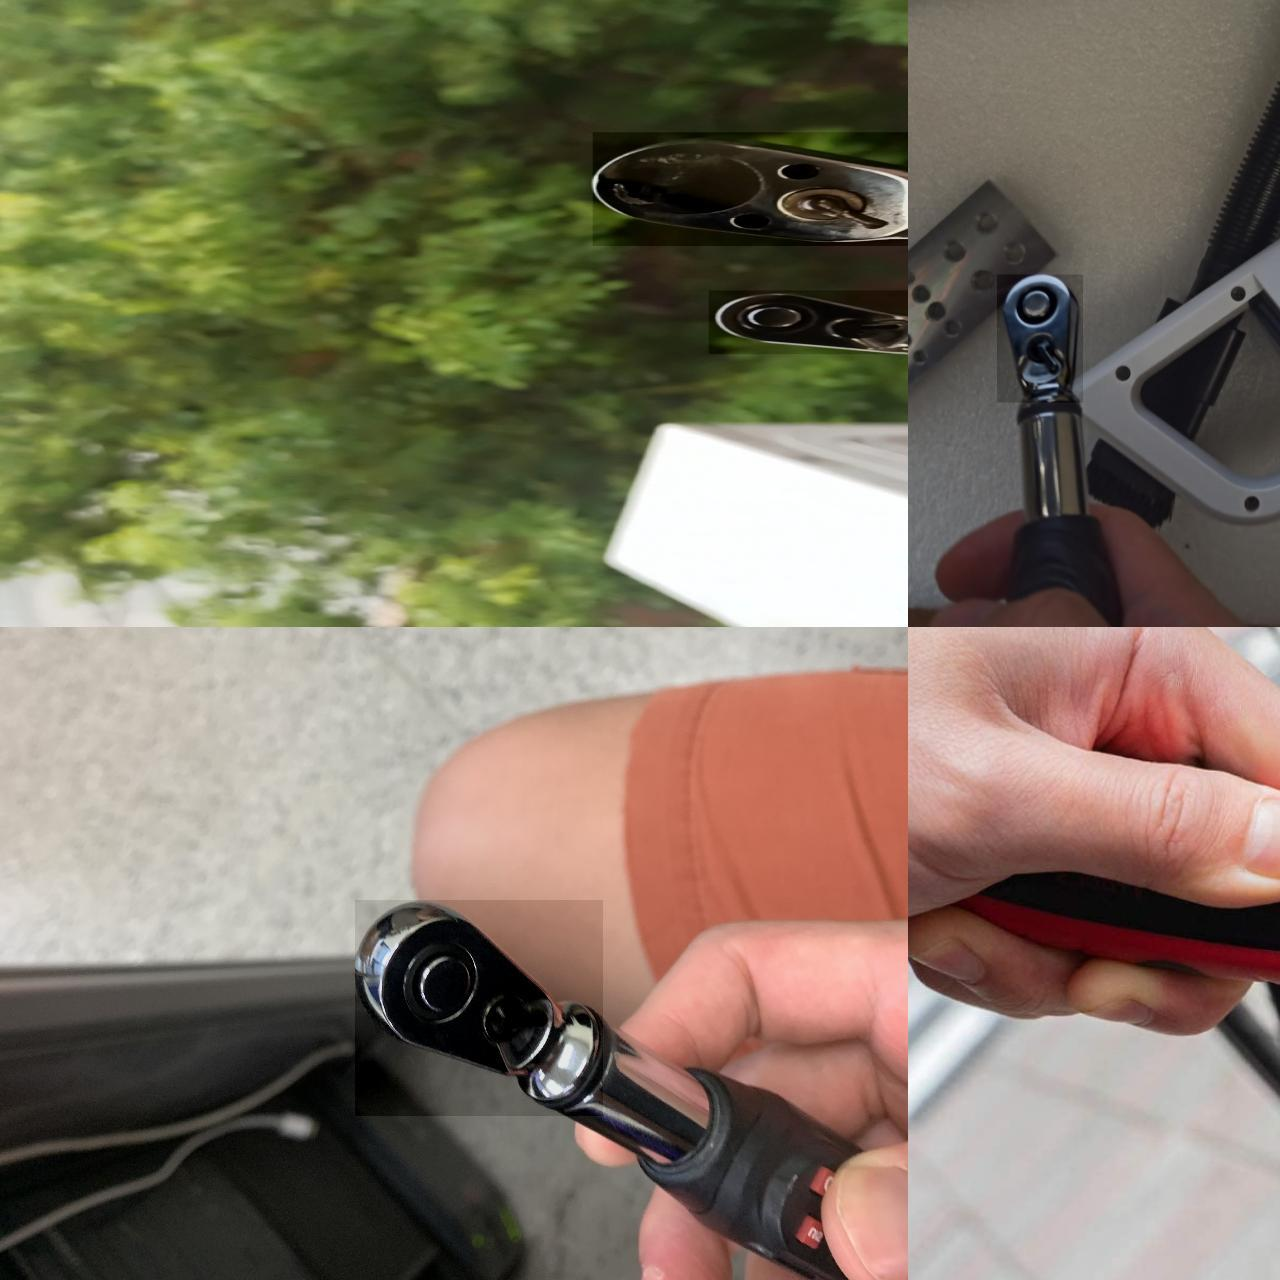Tool: (355, 900, 602, 1116), (592, 132, 908, 245), (708, 290, 908, 354), (998, 274, 1083, 402)
